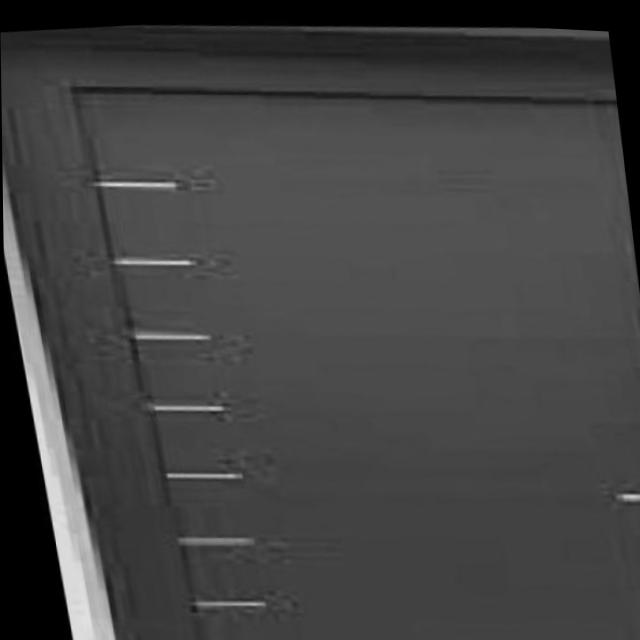door_handle: (591, 460, 640, 508)
